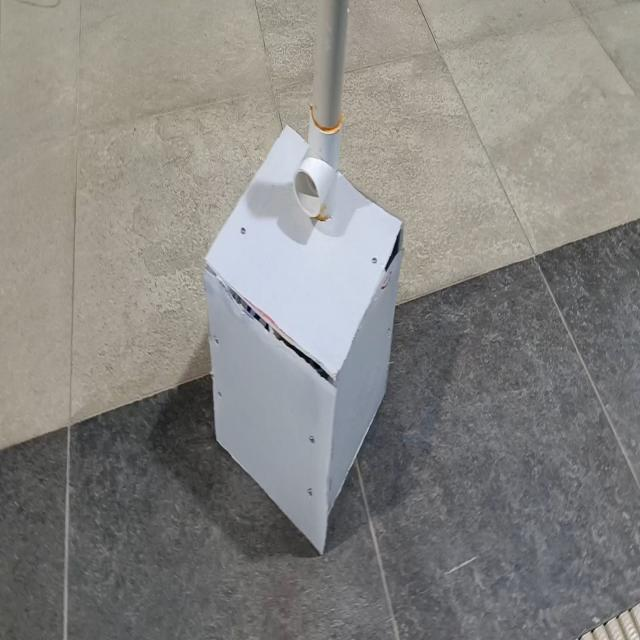Cube: (202, 122, 405, 555)
